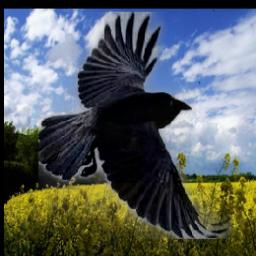Crow: (37, 12, 231, 239)
